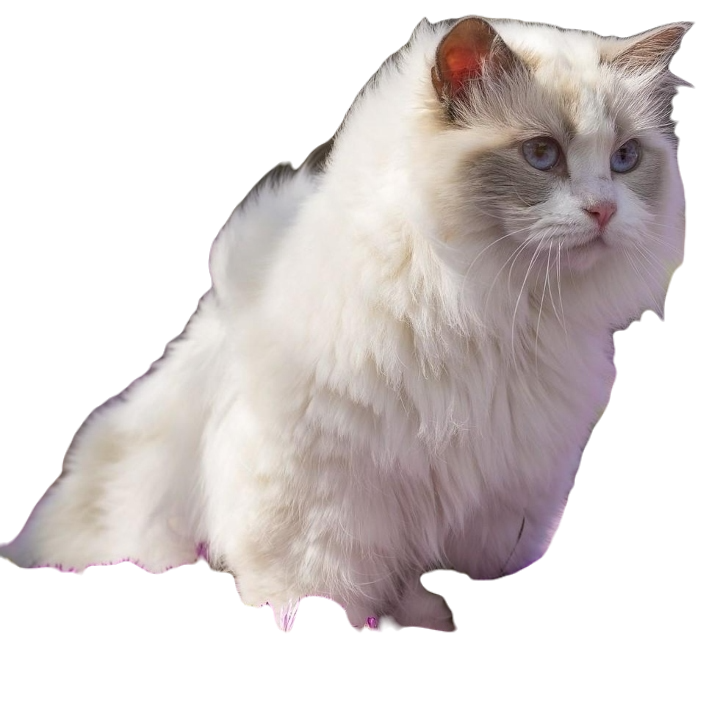Cat: (0, 0, 720, 638)
